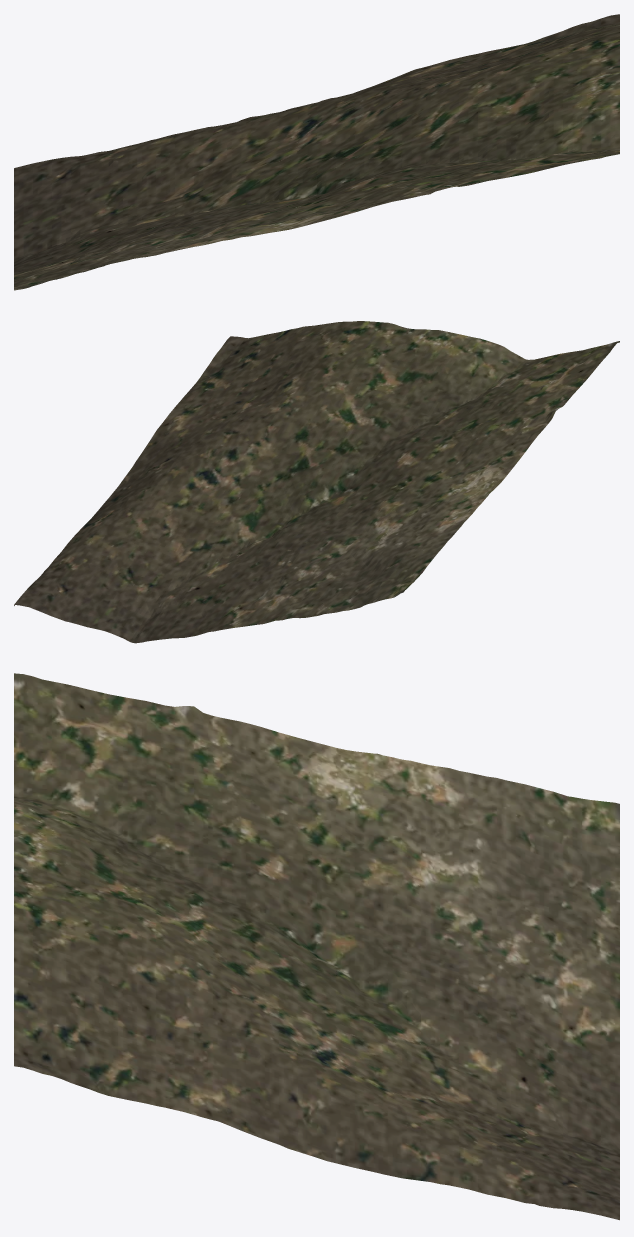
3 views of the same model, one above another, from view 1: azimuth 90°, elevation 25°; view 2: azimuth 150°, elevation 25°; view 3: azimuth 270°, elevation 25° (orthographic). The views are drawn at different scales.
Size of the model in its own units: 250 by 130 by 241.
Materials: 1 (1 with a texture image).
